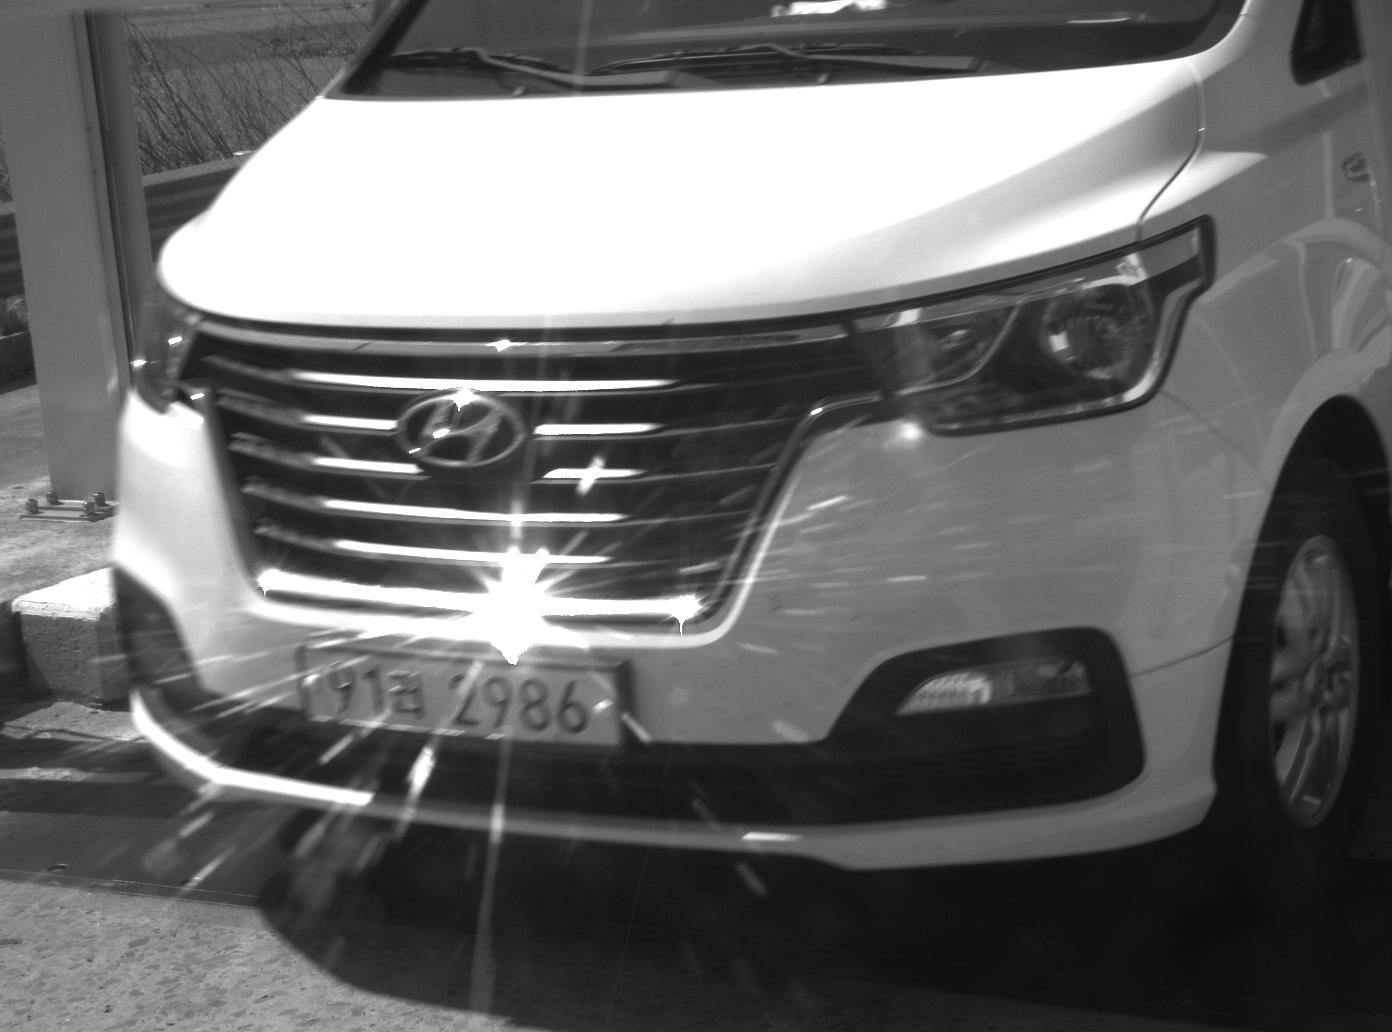car: (109, 1, 1389, 887)
plate: (292, 641, 638, 752)
